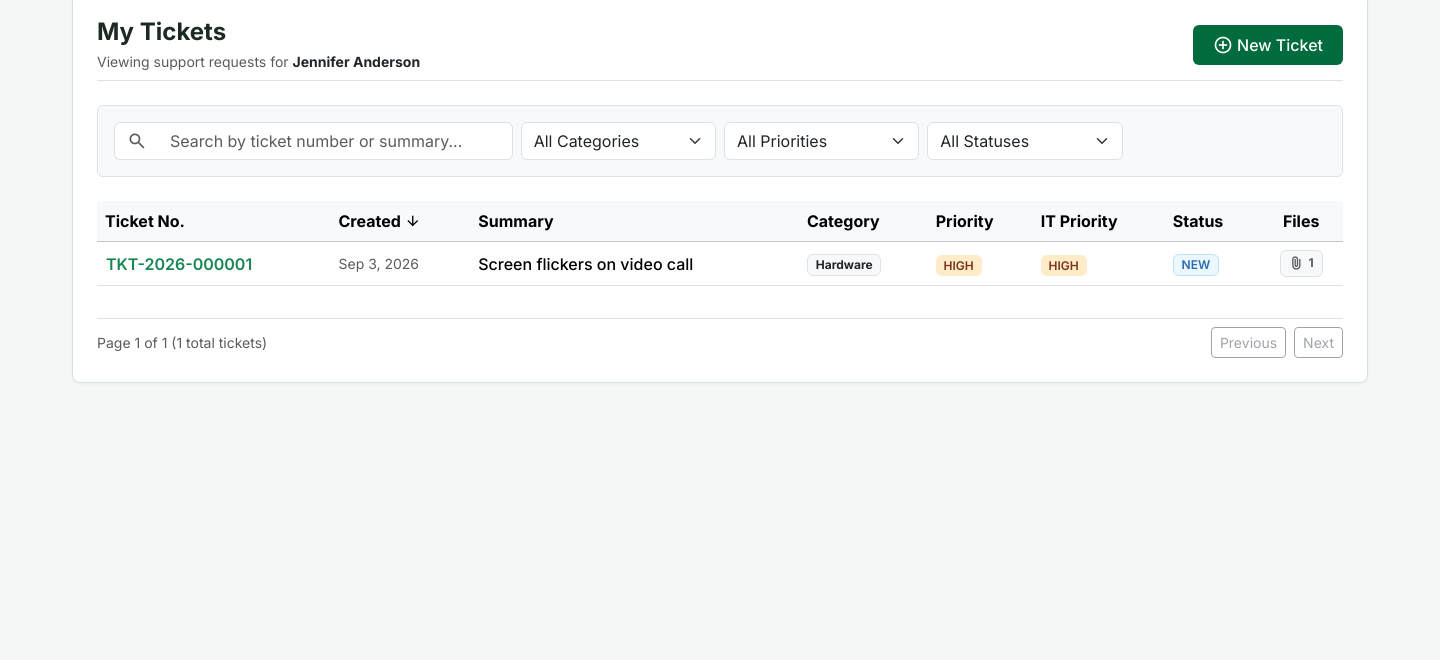
Test: Lab 2 Requester Ticket Detail Suite (client/tests/lab-02/RequesterTicketDetail.test.tsx) › renders read-only fields, badges, and attachment section for owned ticket (UI-08, AC-13, FR-11, BR-15)
Note: In My Tickets, click the ticket link to navigate to Ticket Detail
Click the button "TKT-2026-000001".
click(179, 264)  # box [105,251,253,277]
(page scrolled)
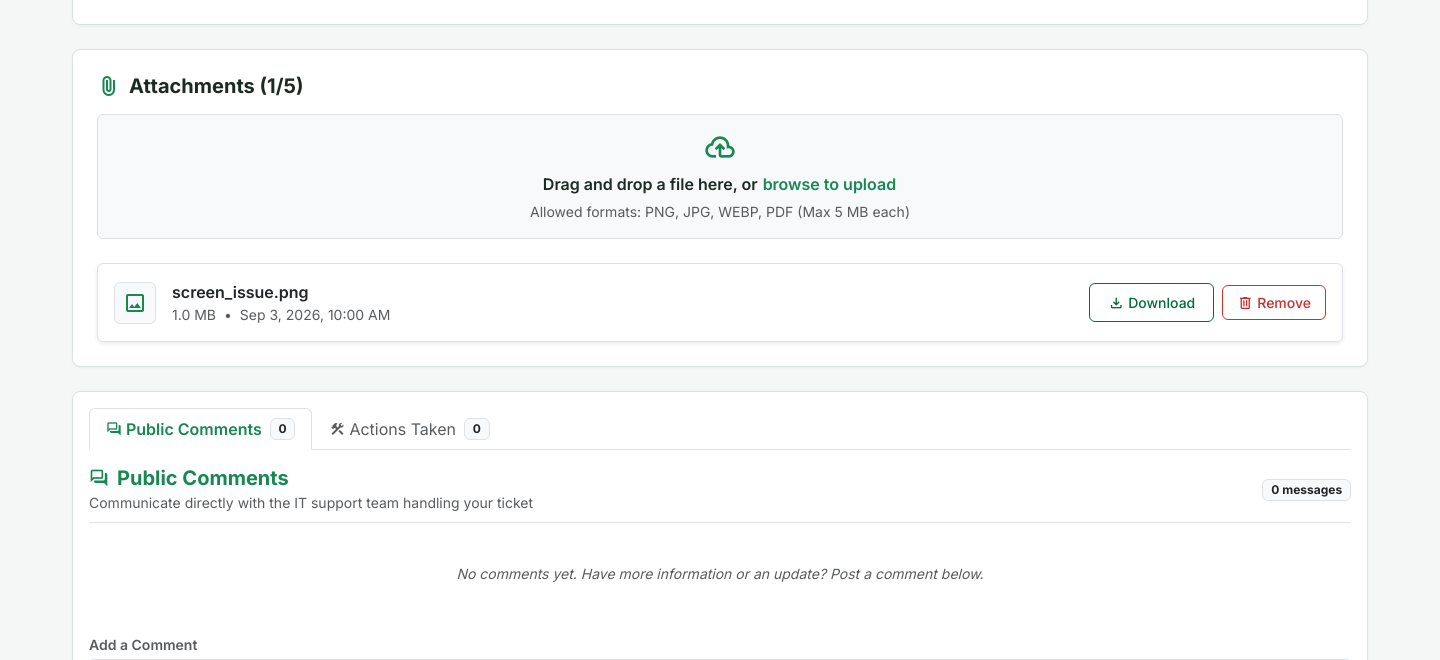
Expected: the element with test id "attachment-section" is shown, [72,49,1368,367]
Expected: the text "screen_issue.png" is shown, [172,282,309,302]
